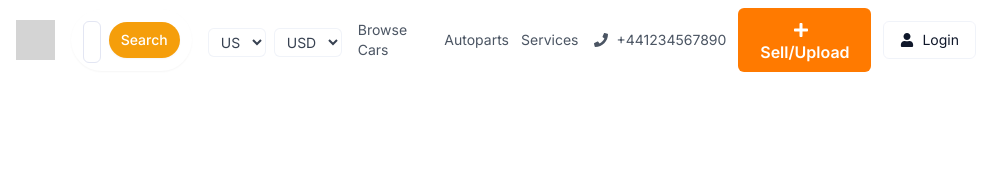
Header › opens suggestions when typing in search
Type "toyota" into the dropdown named "Search inventory" at [92, 42], box [83,21,101,63]
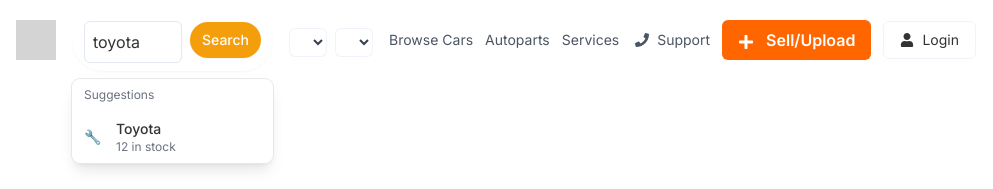
Now the list is shown, box [72,79,273,163]
Now the text "Toyota" is shown, box [116,120,161,137]
